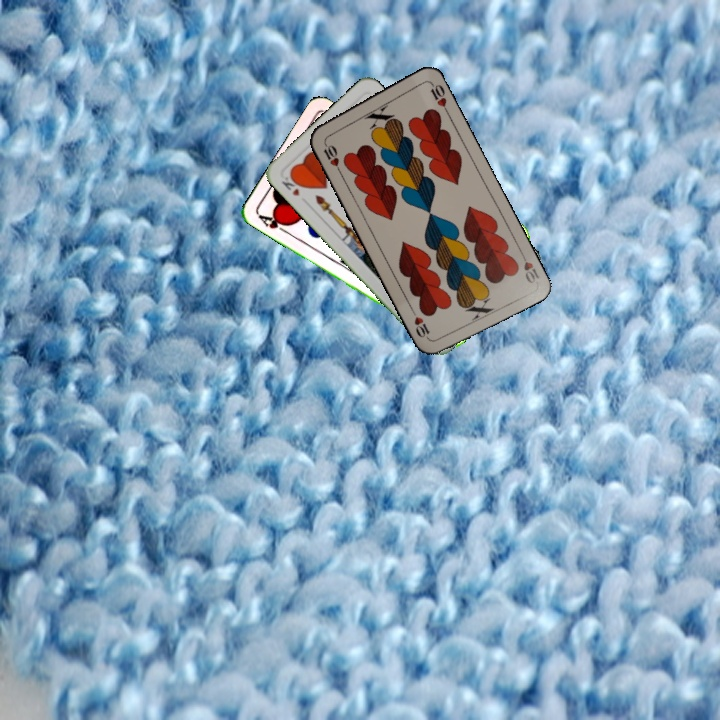H10: (516, 247, 542, 286), (319, 136, 343, 175)
HA: (254, 210, 293, 236)
HK: (277, 170, 305, 199)
